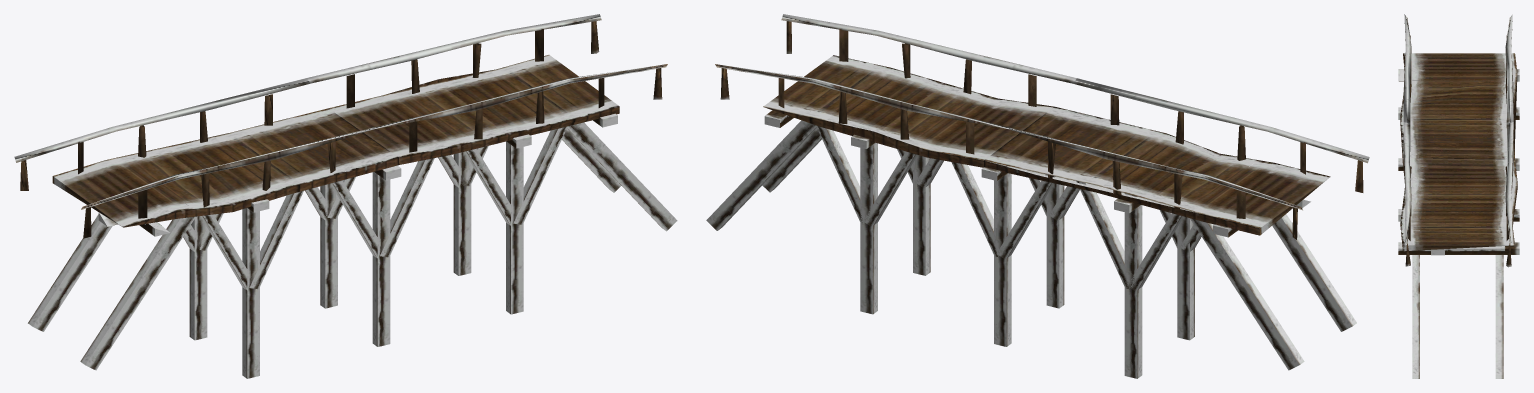
3 views of the same model, side by side, from view 1: azimuth 30°, elevation 25°; view 2: azimuth 150°, elevation 25°; view 3: azimuth 270°, elevation 25° (orthographic). The views are drawn at different scales.
Visible parts, largest first — view 1: Sphere01; view 2: Sphere01; view 3: Sphere01.
Part boxes in pixels (<box>): Sphere01: <box>14,14,677,378</box>; Sphere01: <box>706,14,1369,378</box>; Sphere01: <box>1398,14,1519,378</box>.
Size of the model in its own units: 23.79 by 8.51 by 5.24.
